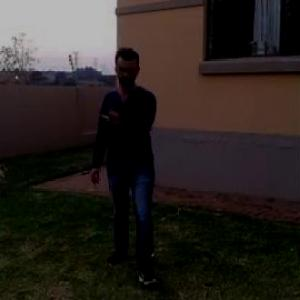land_hand: (96, 91, 132, 133)
